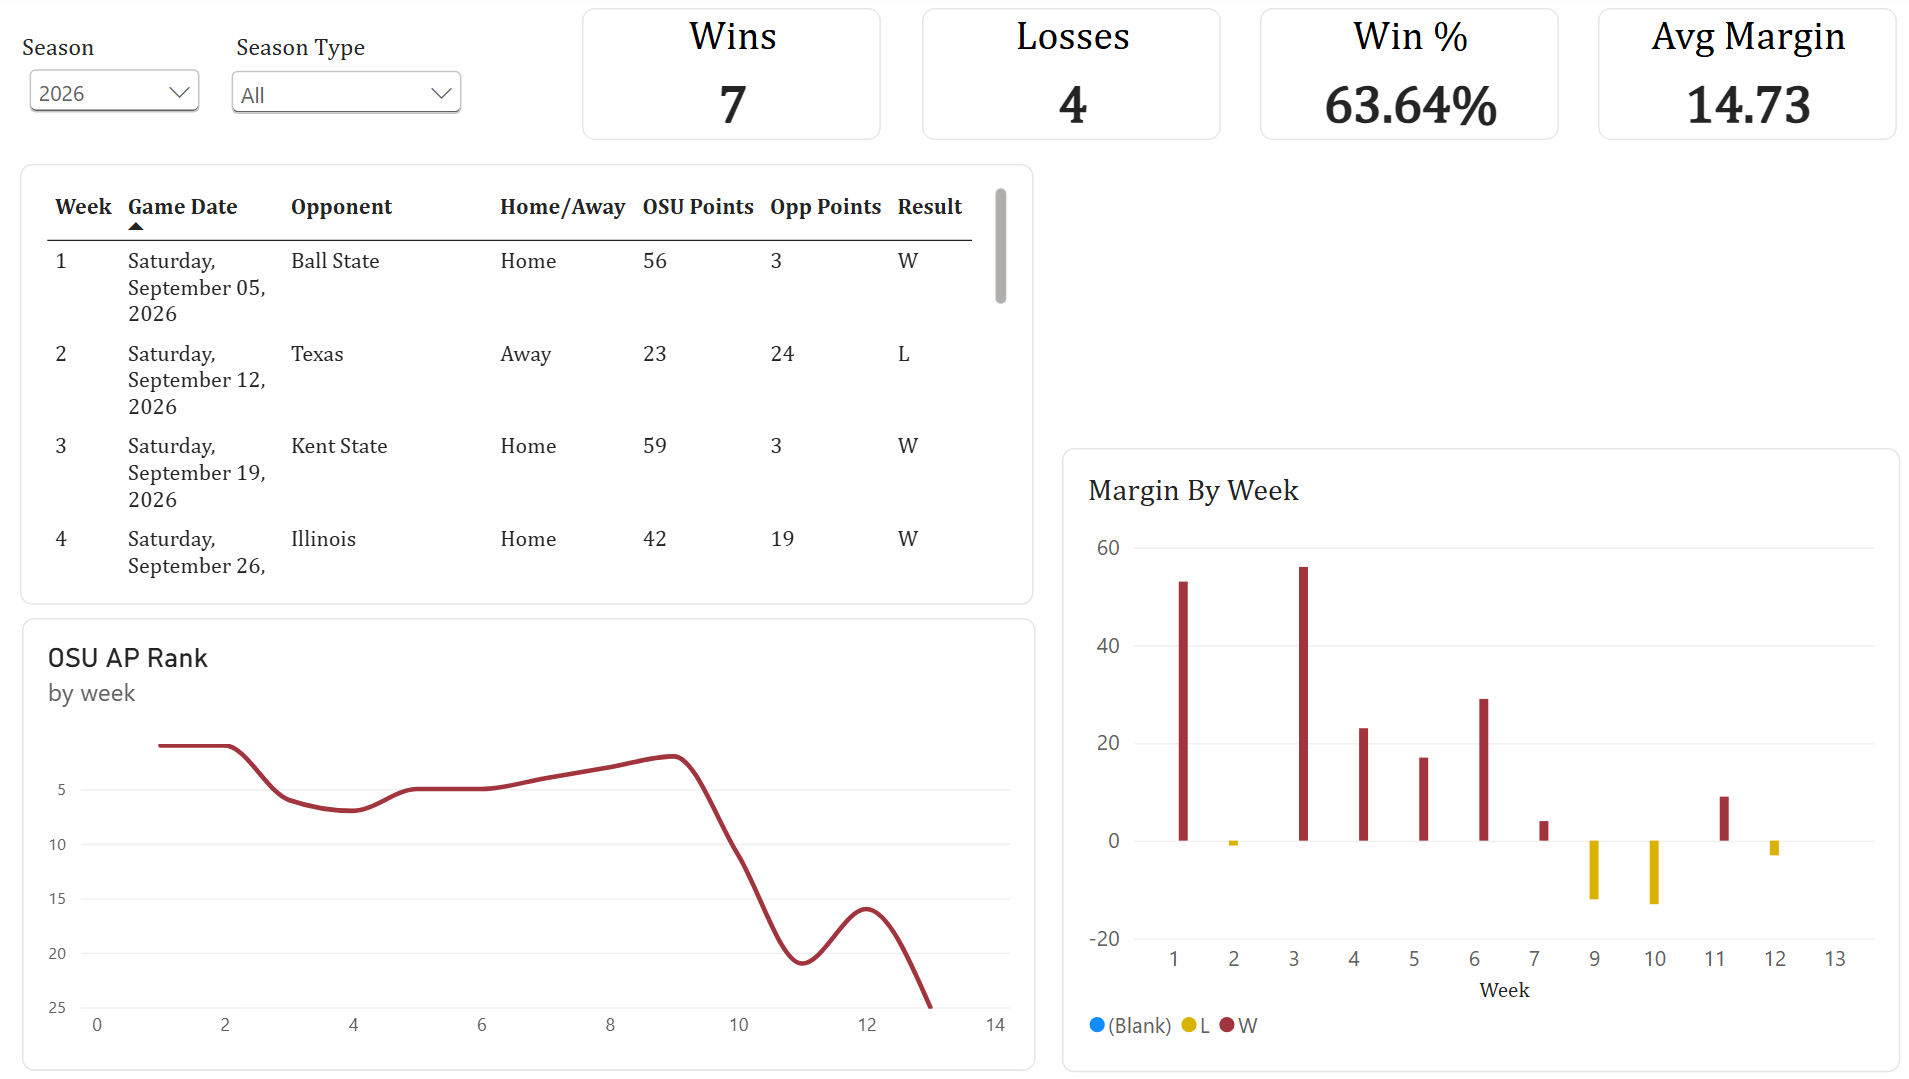

The dashboard page shown, as its layout file describes it:
{"tool":"powerbi","page":{"name":"Season Overview","canvas":[1280,720],"ordinal":3},"visuals":[{"type":"slicer","title":"Season","fields":{"Values":["Dim Season.season"]},"box":[26.1,26.1,121.9,70.9],"z":0},{"type":"cardVisual","title":"Wins","fields":{"Data":["Measure.Wins"]},"box":[394.9,10.5,197.5,87.1],"z":1000},{"type":"cardVisual","title":"Wins","fields":{"Data":["Measure.Loses"]},"box":[619.1,10.5,197.5,87.1],"z":2000},{"type":"cardVisual","title":"Wins","fields":{"Data":["Measure.Win %"]},"box":[842.1,10.5,197.5,87.1],"z":3000},{"type":"cardVisual","title":"Wins","fields":{"Data":["Measure.Avg Margin"]},"box":[1065.1,10.5,197.5,87.1],"z":4000},{"type":"tableEx","title":"Schedule","fields":{"Values":["Games.week","Games.Game Date","Games.Opponent","Games.Home/Away","Games.OSU Points","Games.Opp Points","Games.Result"]},"box":[25.6,113.8,667.9,290.4],"z":5000},{"type":"slicer","fields":{"Values":["Games.seasonType"]},"box":[159.2,26.1,161.5,72],"z":6000},{"type":"clusteredColumnChart","title":"Margin By Week","fields":{"Category":["Games.week"],"Series":["Games.Result"],"Y":["Measure.By Game Margin"]},"box":[711.5,301,552.3,411.7],"z":7000},{"type":"lineChart","fields":{"Category":["Rankings.week"],"Y":["Measure.OSU AP Rank"]},"box":[26.1,413,668,298.5],"z":8000}]}

Visuals, with their boxes in screenshot pixels (x1, y1, x2, y2), scaled from the page's 1280x720 canvas onto the 1909x1079 screenshot:
"Season" slicer: (left=39, top=39, right=221, bottom=145)
"Wins" cardVisual: (left=589, top=16, right=884, bottom=146)
"Wins" cardVisual: (left=923, top=16, right=1218, bottom=146)
"Wins" cardVisual: (left=1256, top=16, right=1550, bottom=146)
"Wins" cardVisual: (left=1588, top=16, right=1883, bottom=146)
"Schedule" tableEx: (left=38, top=171, right=1034, bottom=606)
slicer - Games.seasonType: (left=237, top=39, right=478, bottom=147)
"Margin By Week" clusteredColumnChart: (left=1061, top=451, right=1885, bottom=1068)
lineChart - Rankings.week x Measure.OSU AP Rank: (left=39, top=619, right=1035, bottom=1066)
